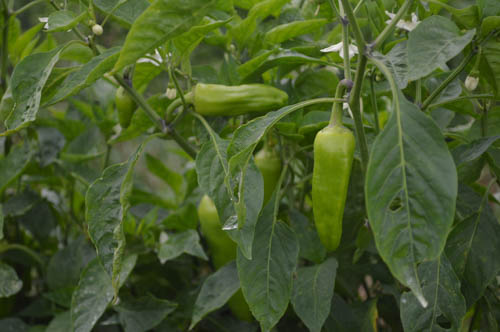ChiliPepper: (197, 196, 252, 319), (313, 130, 355, 256), (192, 81, 290, 123), (244, 156, 279, 234), (113, 90, 138, 127)
